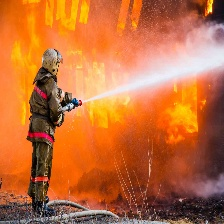fire: (9, 1, 94, 62), (72, 63, 134, 125), (158, 87, 202, 143), (199, 1, 217, 12)
